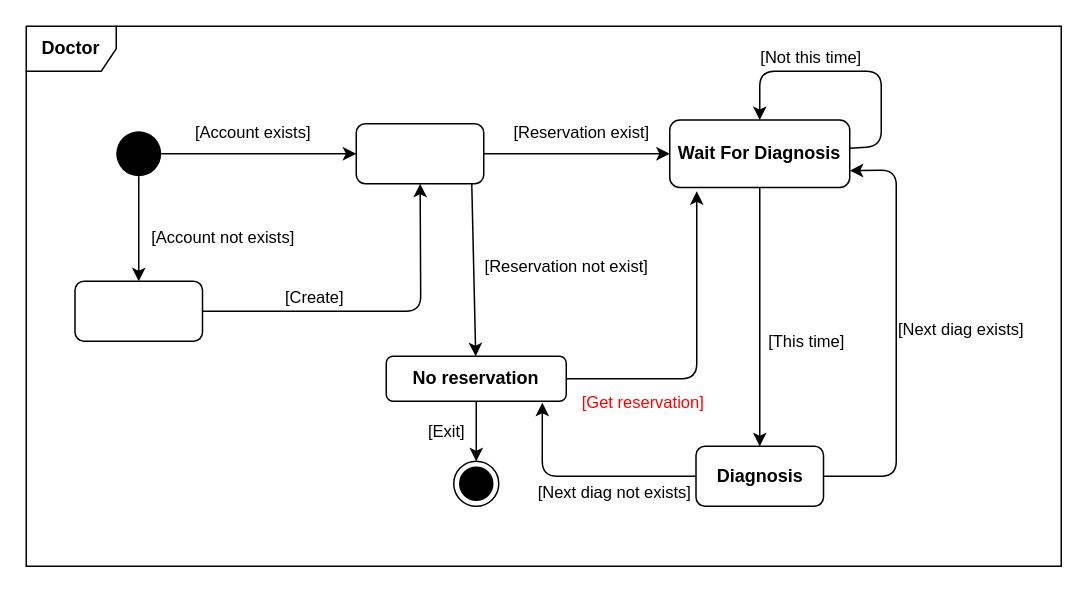
The diagram is 1088 pixels wide and 593 high, and some of its shapes have lost their labels. The box of each missing label's shape, as (x1, y1, x2, y2) in pixels:
Sign Up: (74, 280, 202, 341)
Signed In: (355, 122, 484, 184)
